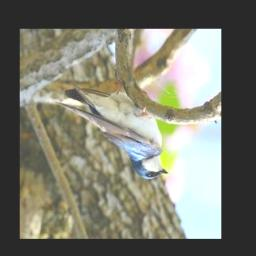Swallow: (54, 77, 169, 181)
